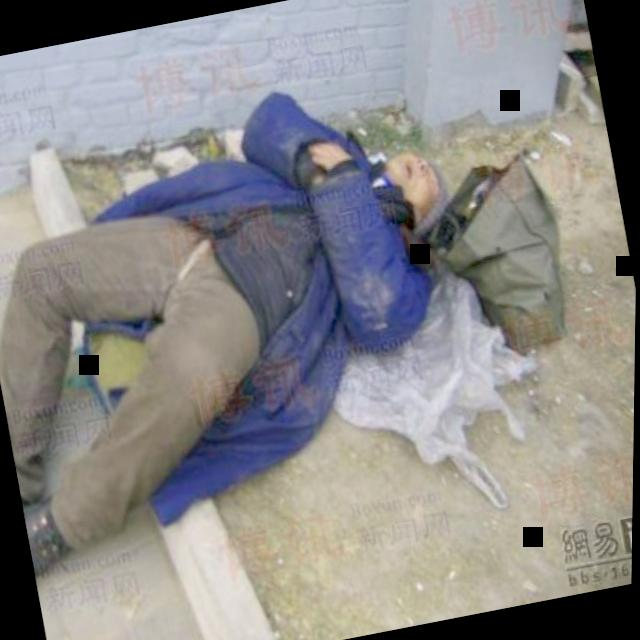Fall-Detected: (0, 56, 513, 602)
